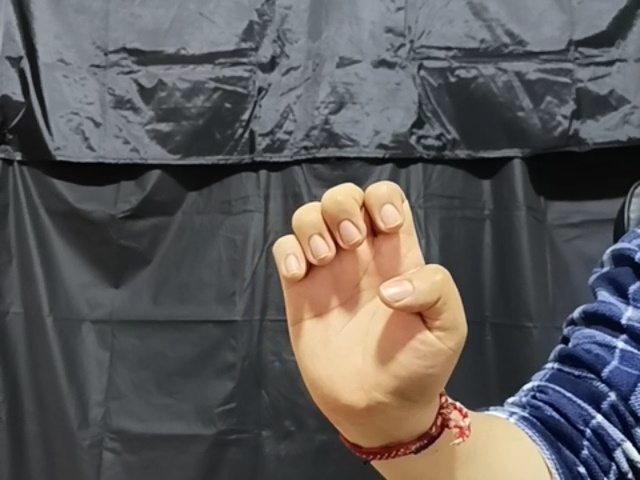E: (269, 177, 473, 435)
